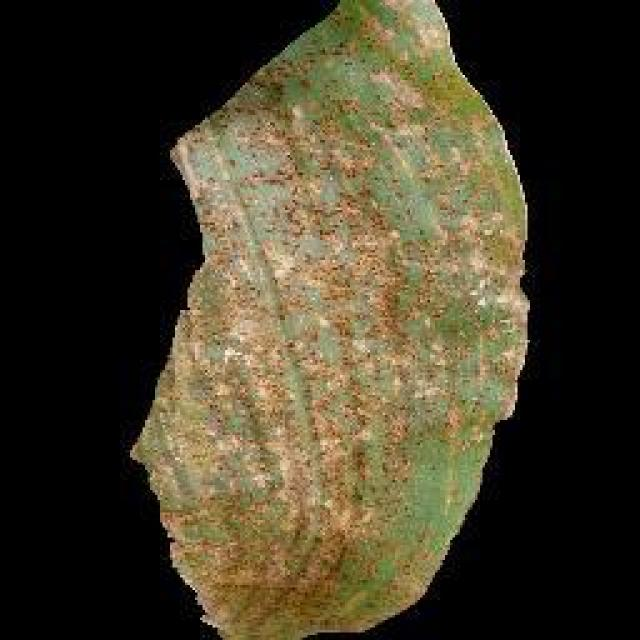Corn Common Rust: (218, 60, 522, 627)
